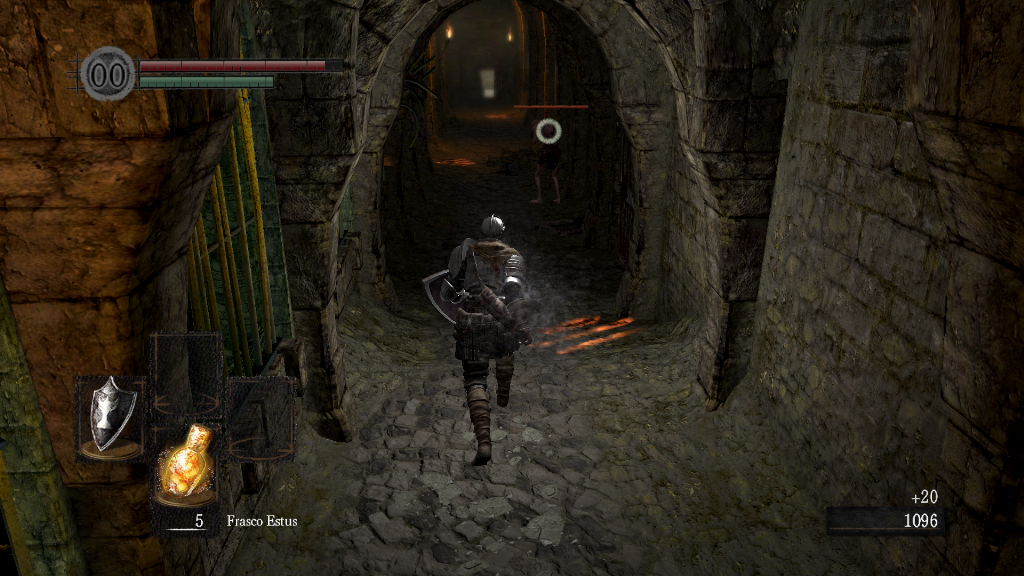health: (138, 58, 343, 71)
hollow: (528, 112, 566, 206)
humanity: (80, 45, 136, 102)
player: (420, 213, 537, 468)
souls: (825, 506, 945, 536)
stamina: (138, 74, 274, 88)
